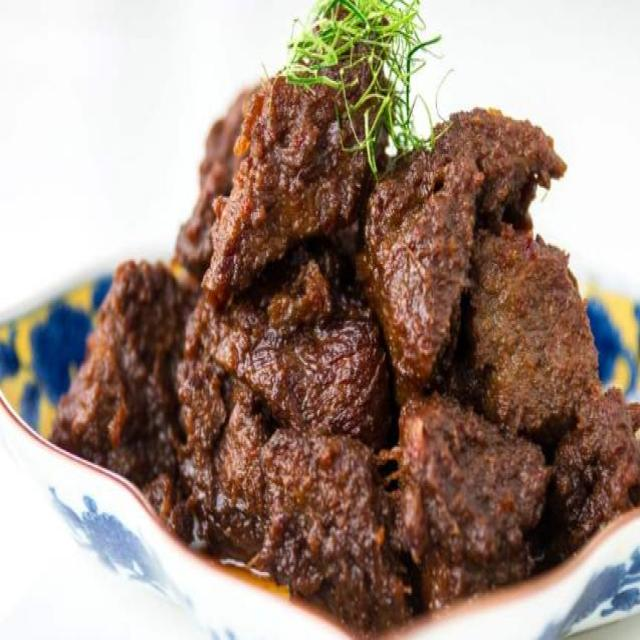Rendang: (35, 43, 640, 616)
